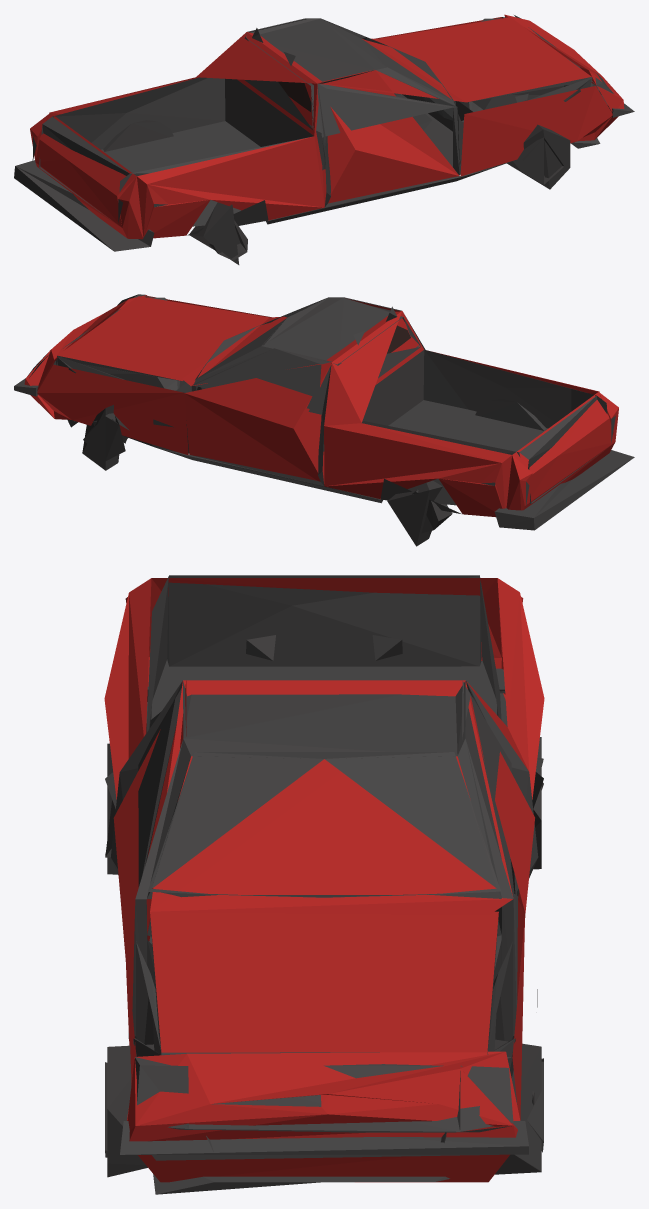
The model's file is car-sedan.lod1.glb.
3 renders of one model, top to bottom at view 1: azimuth 30°, elevation 25°; view 2: azimuth 150°, elevation 25°; view 3: azimuth 270°, elevation 25°, orthographic. The views are drawn at different scales.
Visible parts, largest first — view 1: DOUTRIVE78_Body_DOUTRIVE78_bodymat_0; view 2: DOUTRIVE78_Body_DOUTRIVE78_bodymat_0; view 3: DOUTRIVE78_Body_DOUTRIVE78_bodymat_0.
Part boxes in pixels (x1,y1,x2,y2): DOUTRIVE78_Body_DOUTRIVE78_bodymat_0: (14,14,634,264); DOUTRIVE78_Body_DOUTRIVE78_bodymat_0: (14,294,634,546); DOUTRIVE78_Body_DOUTRIVE78_bodymat_0: (104,575,544,1194).
Bounding box in the file's own units: 4.56 × 1.37 × 1.67.
